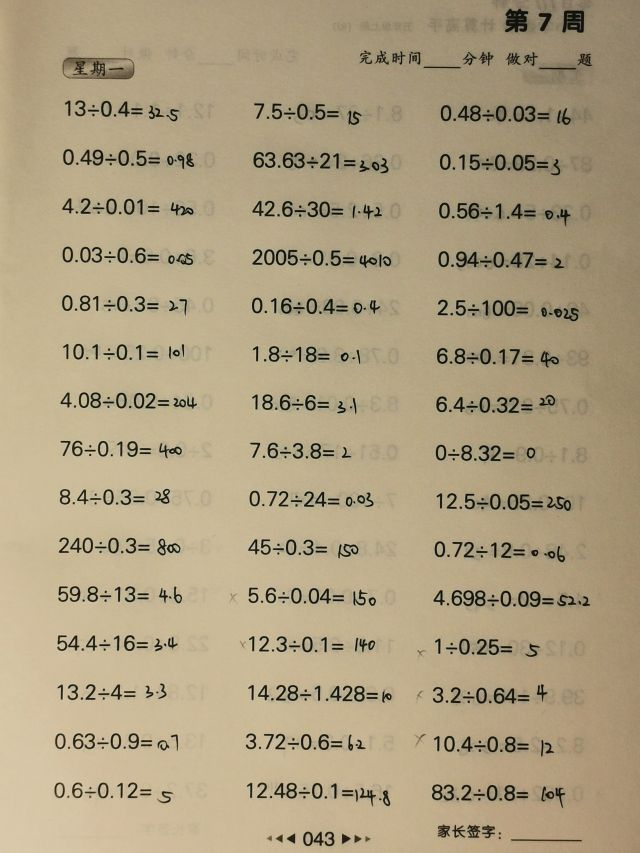equation: (427, 778, 573, 809), (242, 777, 395, 806), (430, 586, 594, 611), (434, 197, 574, 226), (433, 295, 582, 322), (249, 147, 391, 175), (246, 682, 397, 708), (435, 99, 575, 127), (414, 730, 557, 757), (249, 244, 395, 270), (62, 95, 180, 127), (434, 148, 564, 177), (432, 488, 575, 514), (49, 776, 176, 805), (430, 537, 569, 563), (58, 193, 197, 219), (58, 145, 197, 171), (57, 387, 201, 412), (58, 242, 196, 268), (247, 196, 385, 222), (431, 390, 559, 418), (243, 582, 380, 608), (427, 682, 554, 710), (432, 343, 562, 370), (434, 247, 569, 273), (57, 291, 191, 317), (53, 581, 186, 607), (50, 728, 182, 754), (246, 293, 383, 318), (54, 532, 185, 558), (55, 436, 186, 462), (245, 632, 380, 657), (244, 486, 377, 511), (241, 728, 368, 754), (60, 340, 189, 365), (250, 98, 365, 126), (53, 630, 180, 655), (426, 633, 543, 660), (243, 534, 363, 560), (247, 389, 361, 416), (55, 485, 175, 510), (249, 341, 364, 367), (53, 679, 170, 704), (431, 440, 539, 465), (246, 438, 354, 463)
